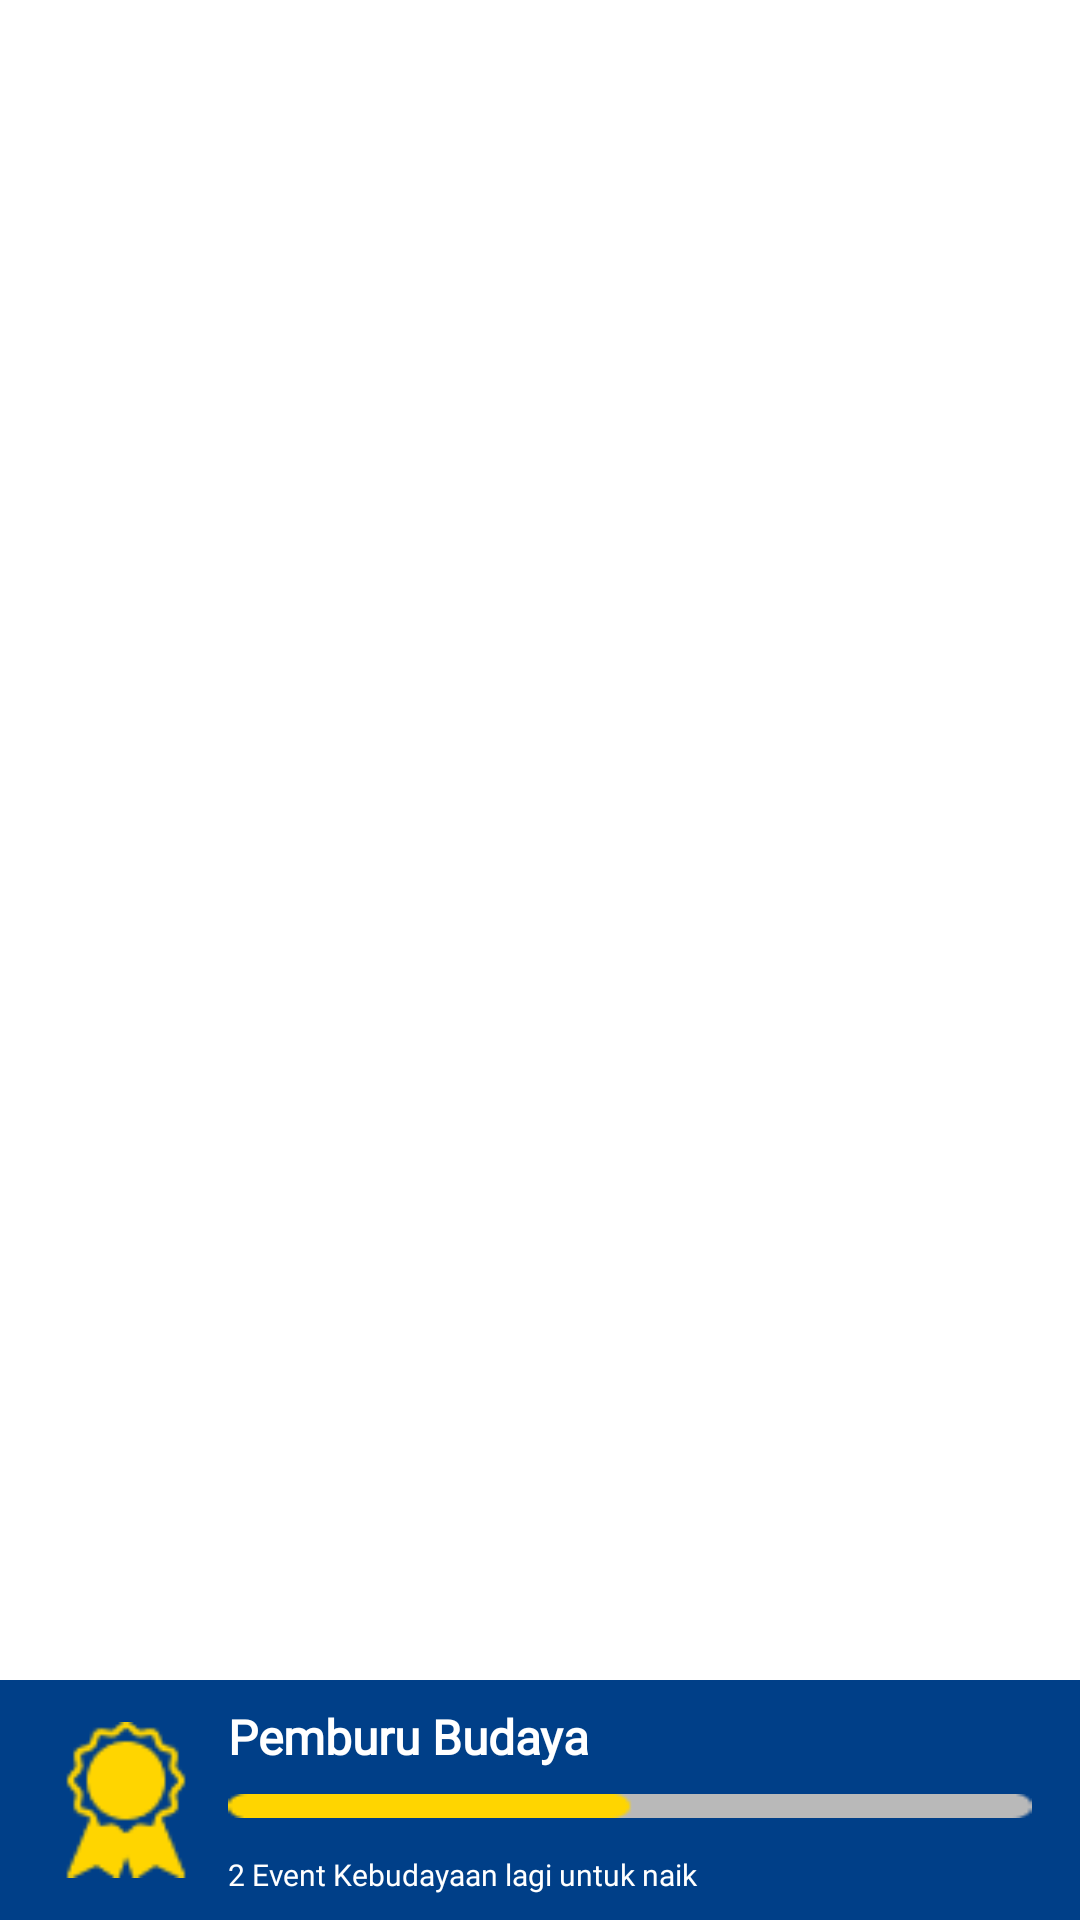

Icons on this 1080w x 1920h Android screen, each with the point to tap as (x,y):
award: (126,1800)
